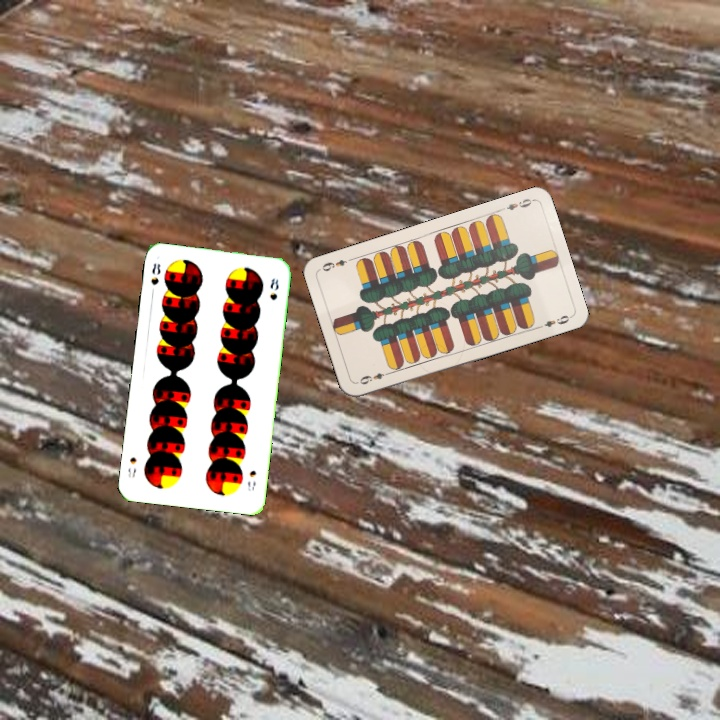E9: (496, 194, 536, 214), (356, 368, 393, 387)
S8: (147, 259, 163, 287), (244, 466, 259, 493)
